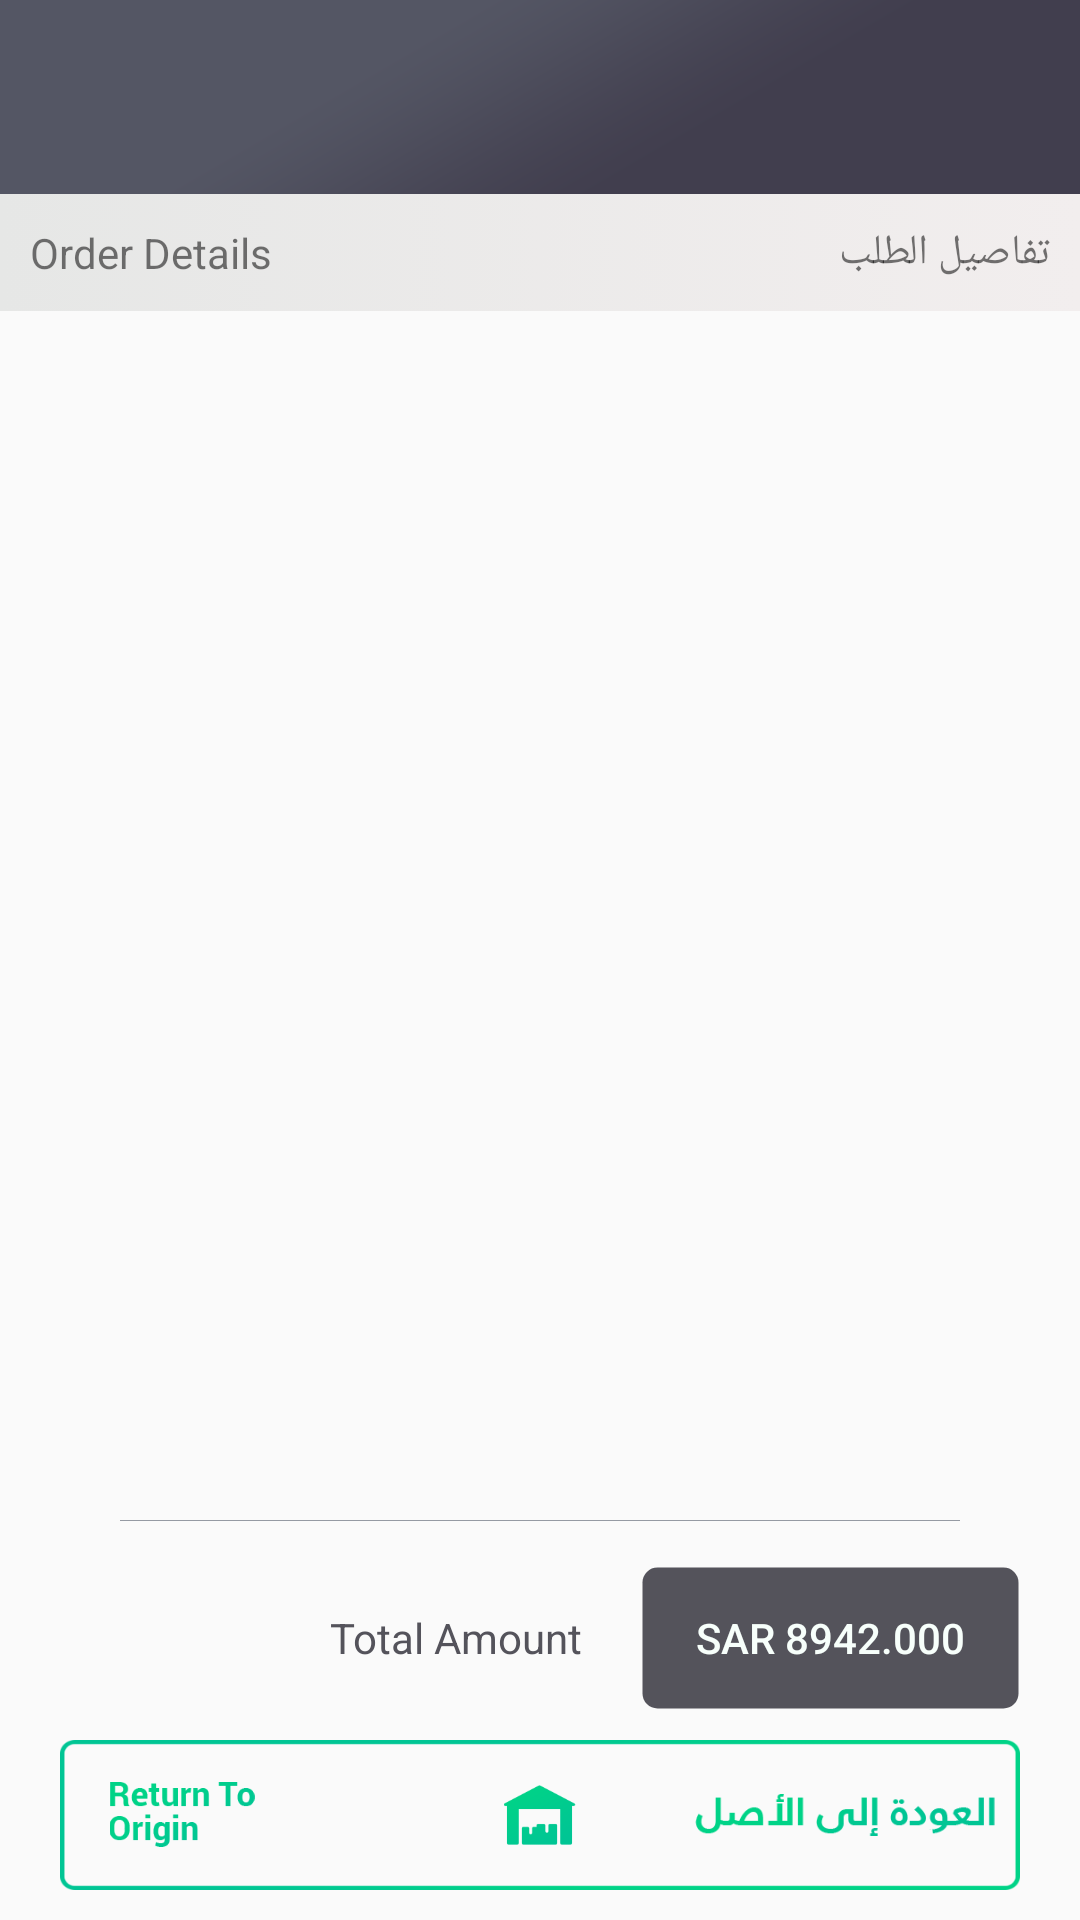

Where icons sit on this 1080x1920 app screen, as (x1, y1, x2, y2):
return to origin: (504, 1785, 576, 1845)
